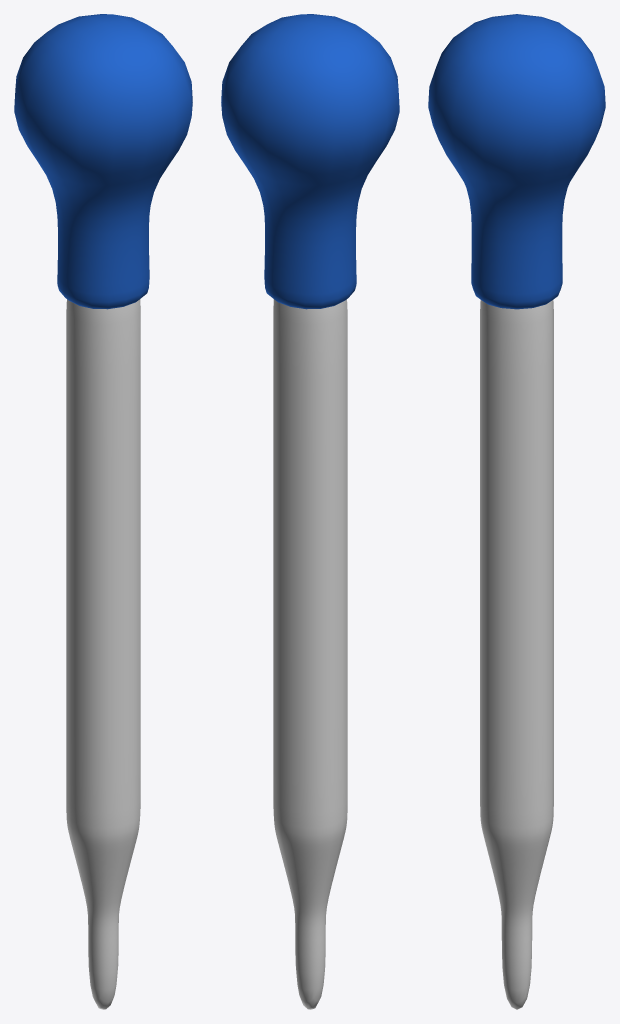
Rendered from Pipet berskala 10ml.fbx.
3 views of the same model, side by side, from view 1: azimuth 30°, elevation 25°; view 2: azimuth 150°, elevation 25°; view 3: azimuth 270°, elevation 25° (orthographic).
Visible parts, largest first — view 1: Cube.063; view 2: Cube.063; view 3: Cube.063.
Part boxes in pixels (x1=…): Cube.063: x1=14, y1=14, x2=192, y2=1009; Cube.063: x1=221, y1=14, x2=399, y2=1009; Cube.063: x1=428, y1=14, x2=605, y2=1009.
Size of the model in its own units: 1.68 by 10.27 by 1.68.
